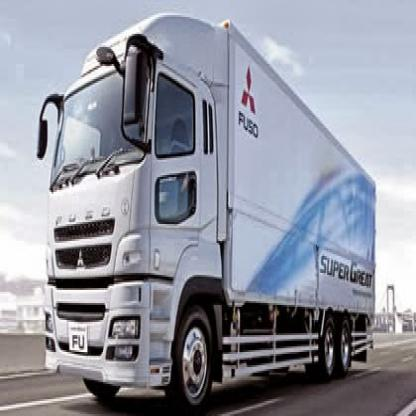truck: (36, 9, 376, 408)
